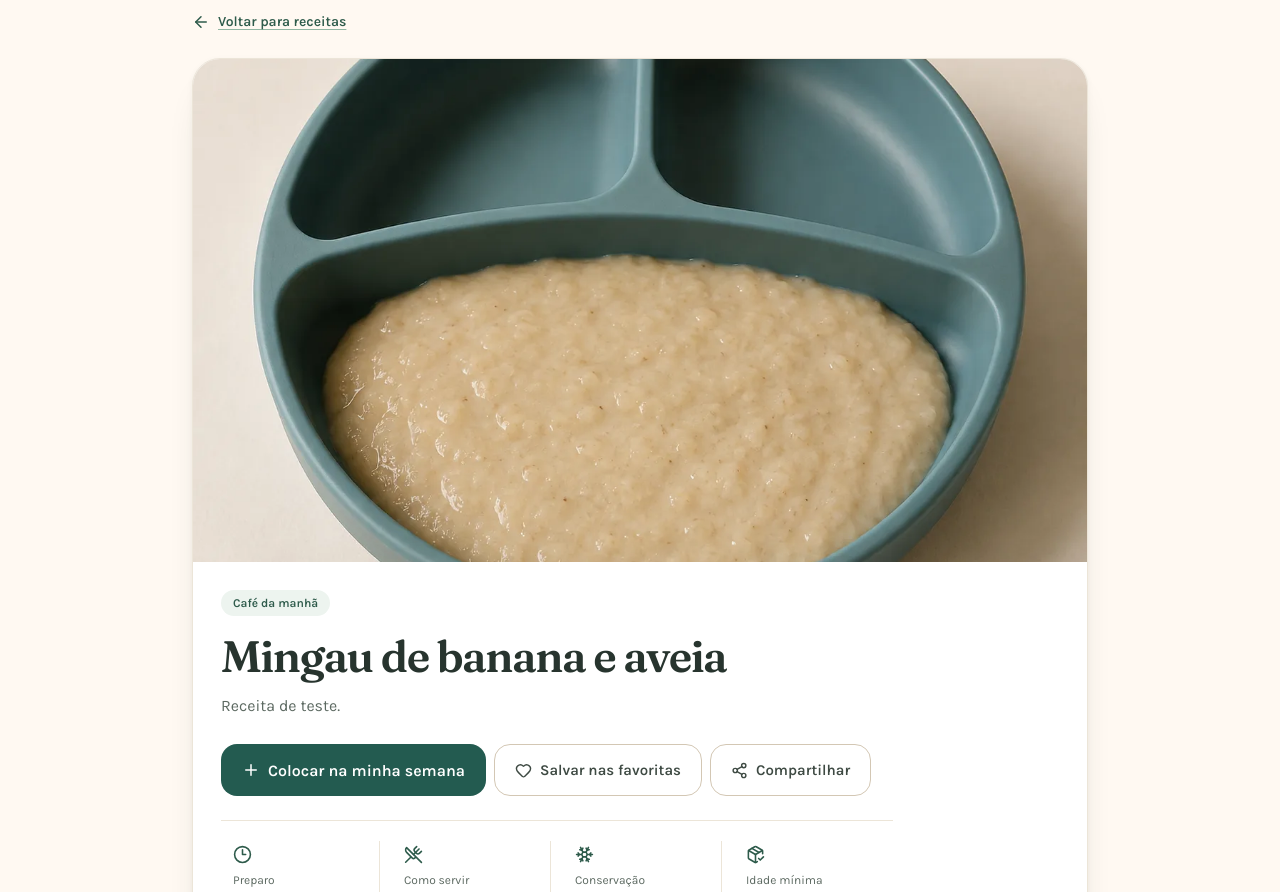
Test: does not claim a copied link when the clipboard API is unavailable
Click the button "Compartilhar".
click(791, 770)  # box [710,744,871,796]
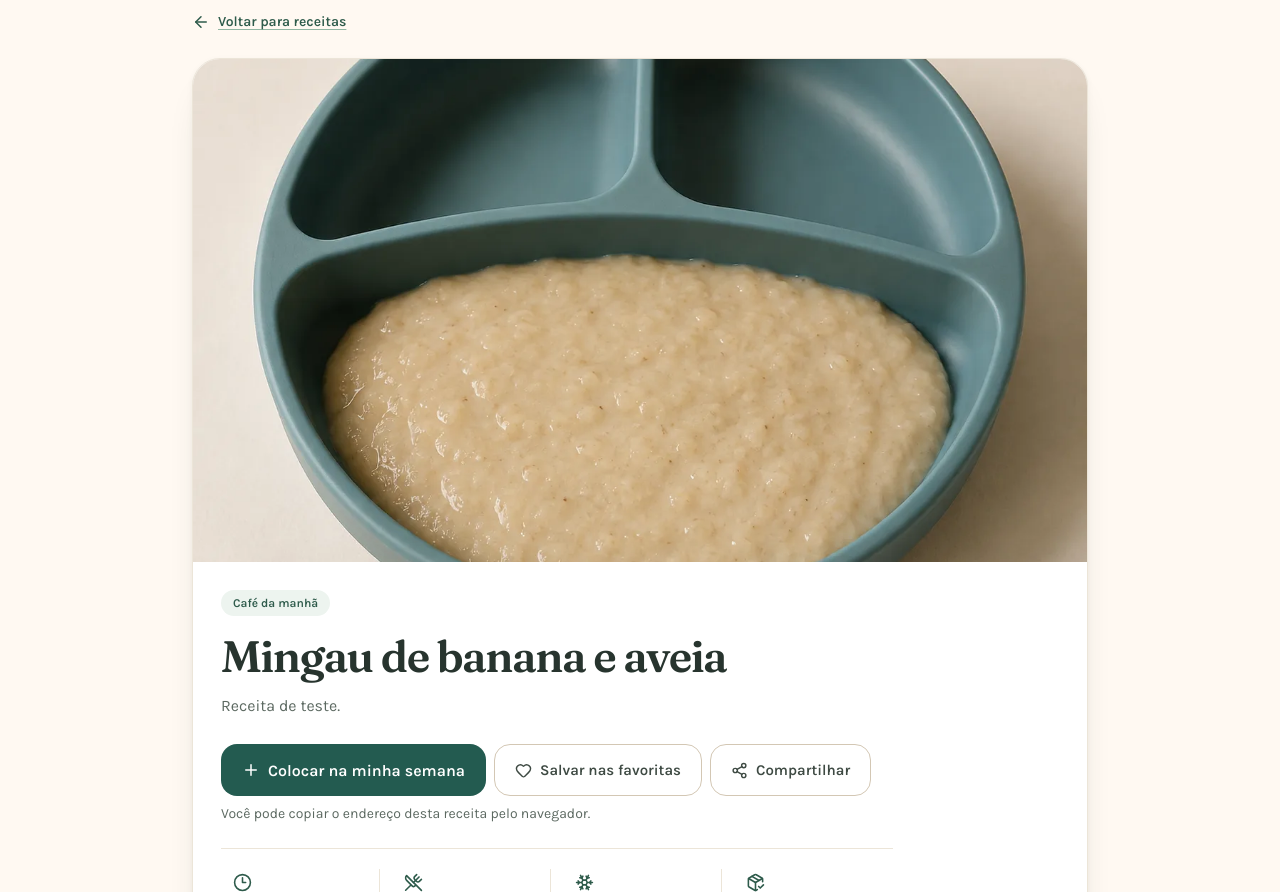
Expected: the text "Você pode copiar o endereço desta receita pelo navegador." is shown, [221,805,590,822]
